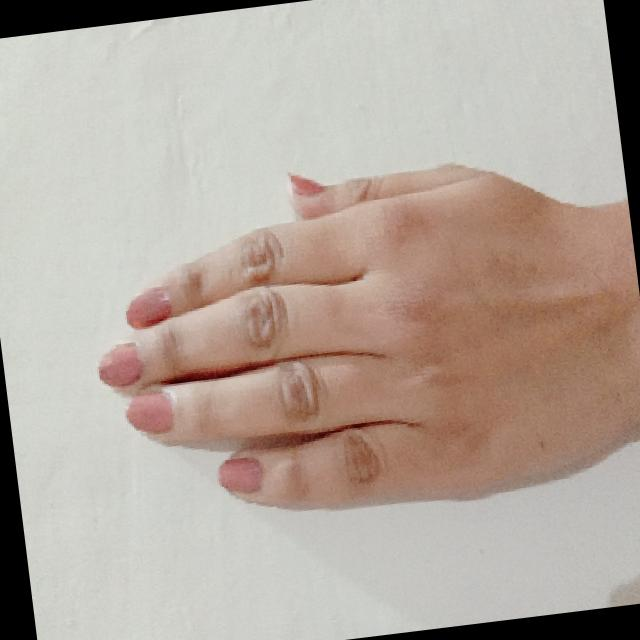Nail: (99, 342, 142, 386), (126, 390, 172, 431), (126, 287, 171, 328), (219, 456, 262, 492), (290, 174, 324, 193)
